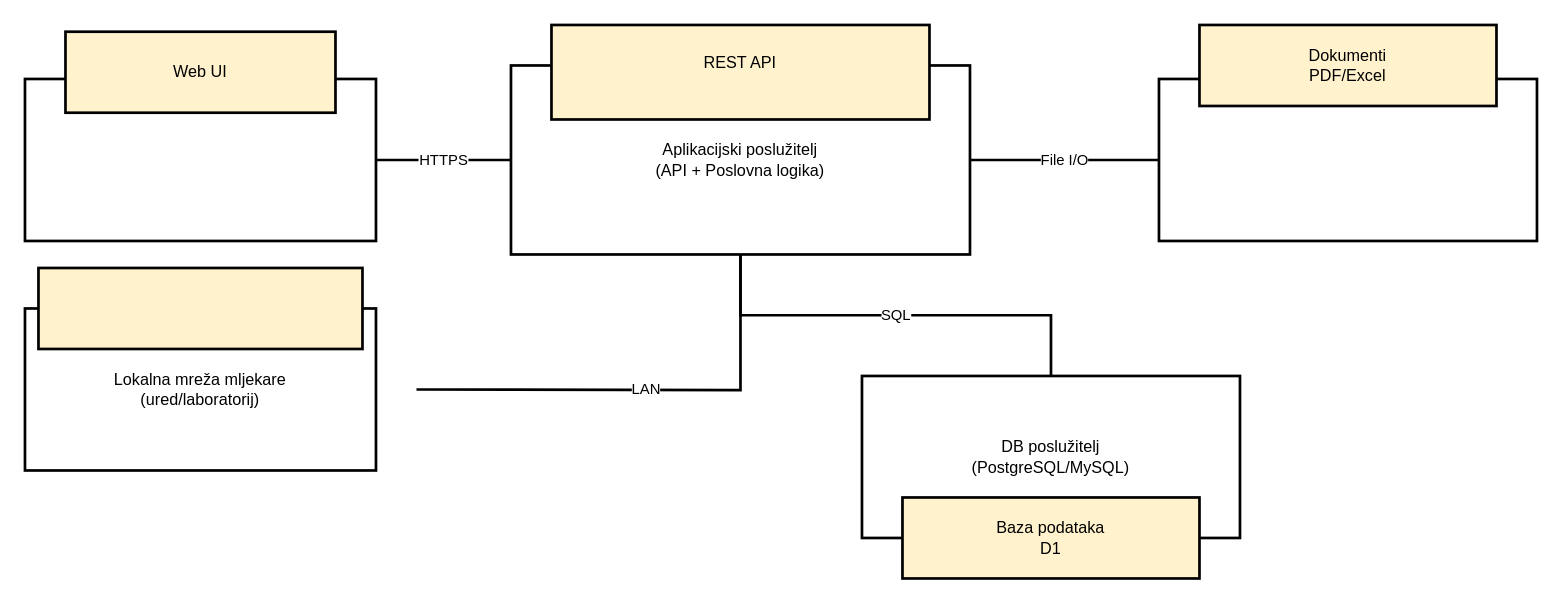
Image size: 1561x602. Some labels were removed from this diagram. The shapes that lost their labels are listed below. From the top down, each one's centre as x and y in pixels, then its label:
At (200,159): "Klijentska razina (Web preglednik)".
At (1347,159): "Datotečni poslužitelj (Dokumenti)".
At (199,308): "Radne stanice (Otkup/Lab/Skladište)".
